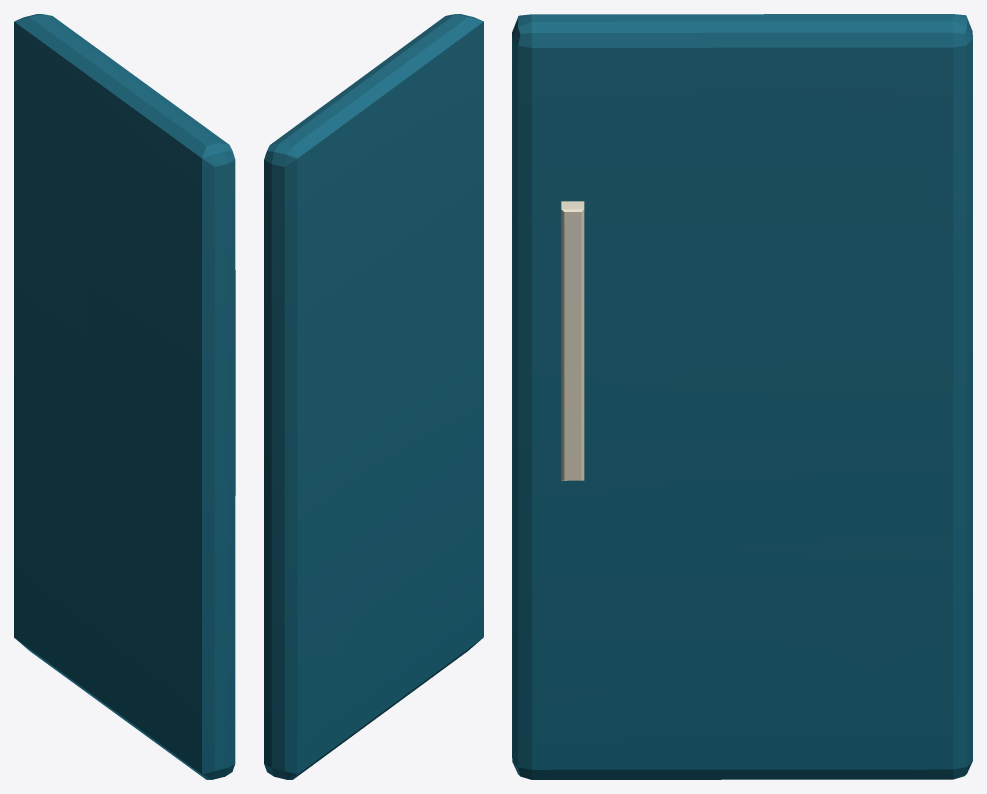
File: fridge2-part1.glb
3 views of the same model, side by side, from view 1: azimuth 30°, elevation 25°; view 2: azimuth 150°, elevation 25°; view 3: azimuth 270°, elevation 25° (orthographic). The views are drawn at different scales.
Parts seen in each view (by area): view 1: Fridge2Part1.001; view 2: Fridge2Part1.001; view 3: Fridge2Part1.001.
Part boxes in pixels (<box>): Fridge2Part1.001: <box>14,14,235,779</box>; Fridge2Part1.001: <box>264,14,483,779</box>; Fridge2Part1.001: <box>512,14,972,779</box>.
Bounding box in the file's own units: 0.1607 × 1.81 × 1.
1 material, 1 textured.
